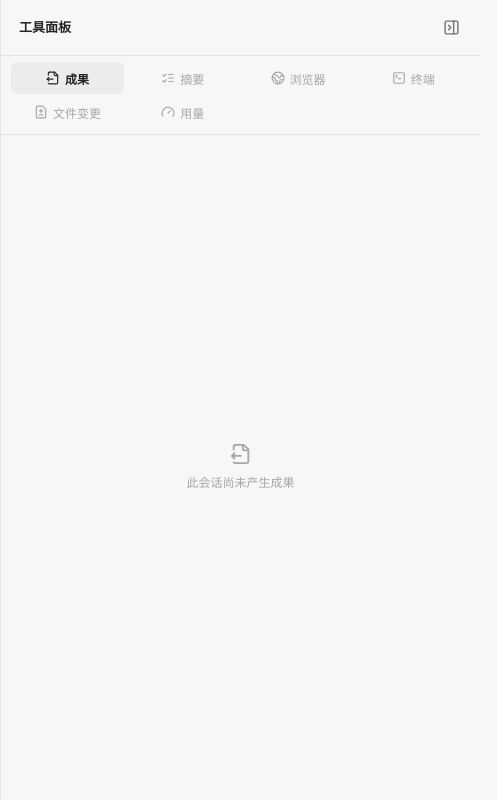
it: WorkbenchPanel › opens persisted file changes and actual usage from dedicated tabs
Click the tab "文件变更". click: (68,112)
box: [11, 96, 124, 128]
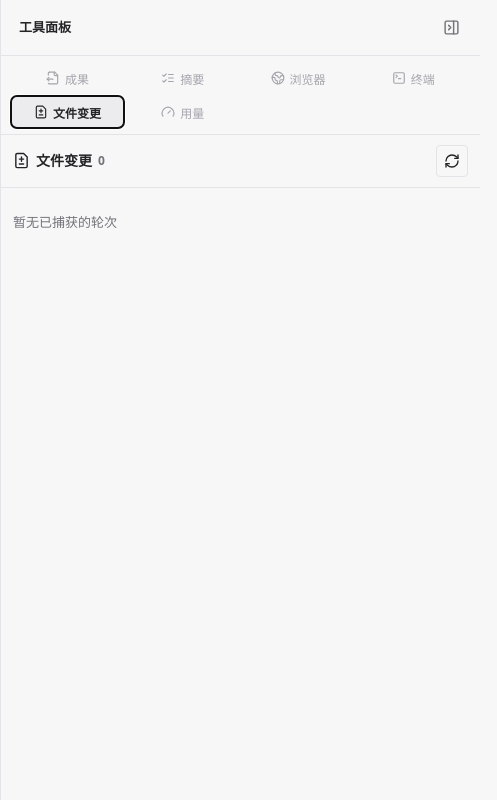
Now the text "暂无已捕获的轮次" is shown, box [13, 213, 117, 231]
Click the tab "用量". click: (183,112)
box: [126, 96, 240, 128]
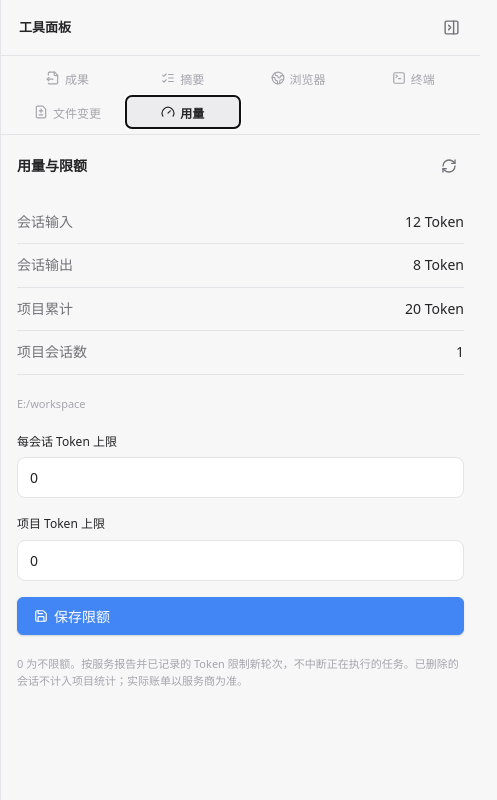
Now the text "12 Token" is shown, box [405, 211, 464, 233]
